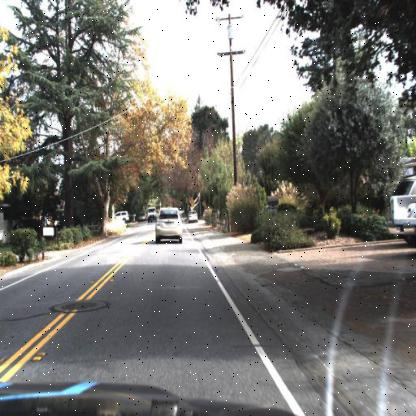car: (154, 204, 184, 246), (113, 209, 132, 227), (146, 203, 160, 223), (186, 210, 200, 226)
